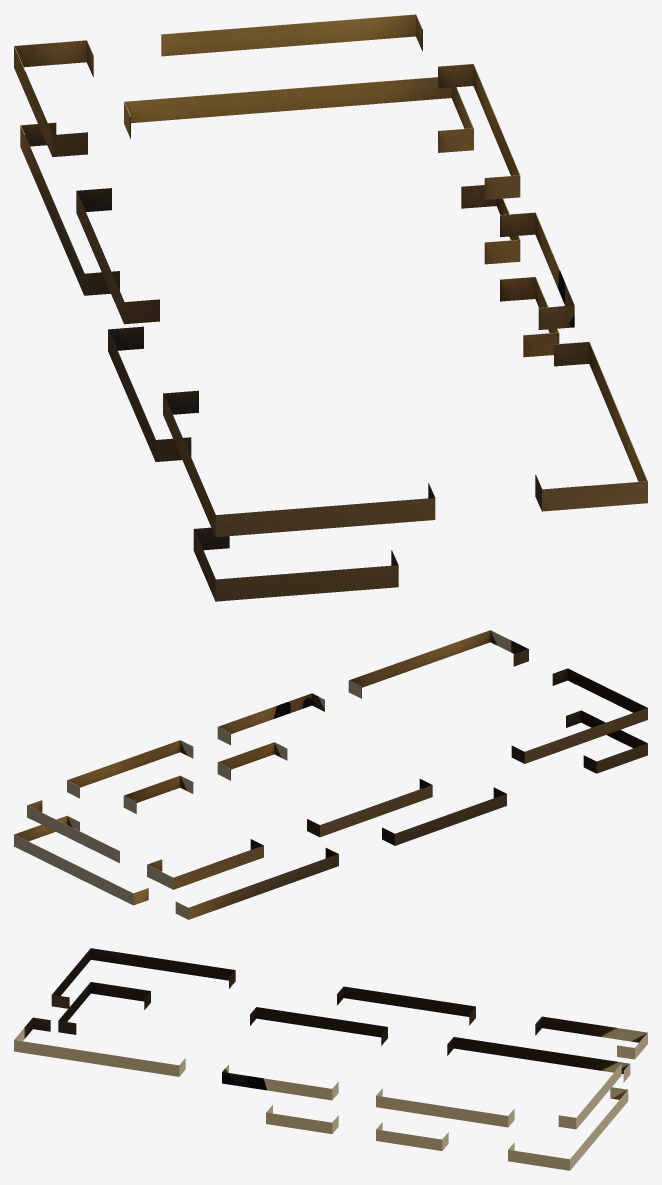
The model's file is Balustrade_05.fbx.
The picture shows the model from 3 angles, top to bottom: view 1: azimuth 30°, elevation 25°; view 2: azimuth 150°, elevation 25°; view 3: azimuth 270°, elevation 25°; orthographic projection. The views are drawn at different scales.
Parts seen in each view (by area): view 1: Balustrade_05; view 2: Balustrade_05; view 3: Balustrade_05.
Part boxes in pixels (<box>): Balustrade_05: <box>14,14,647,601</box>; Balustrade_05: <box>14,630,647,919</box>; Balustrade_05: <box>14,948,647,1170</box>.
Bounding box in the file's own units: 33.18 × 3.94 × 50.09.
1 material, 1 textured.
